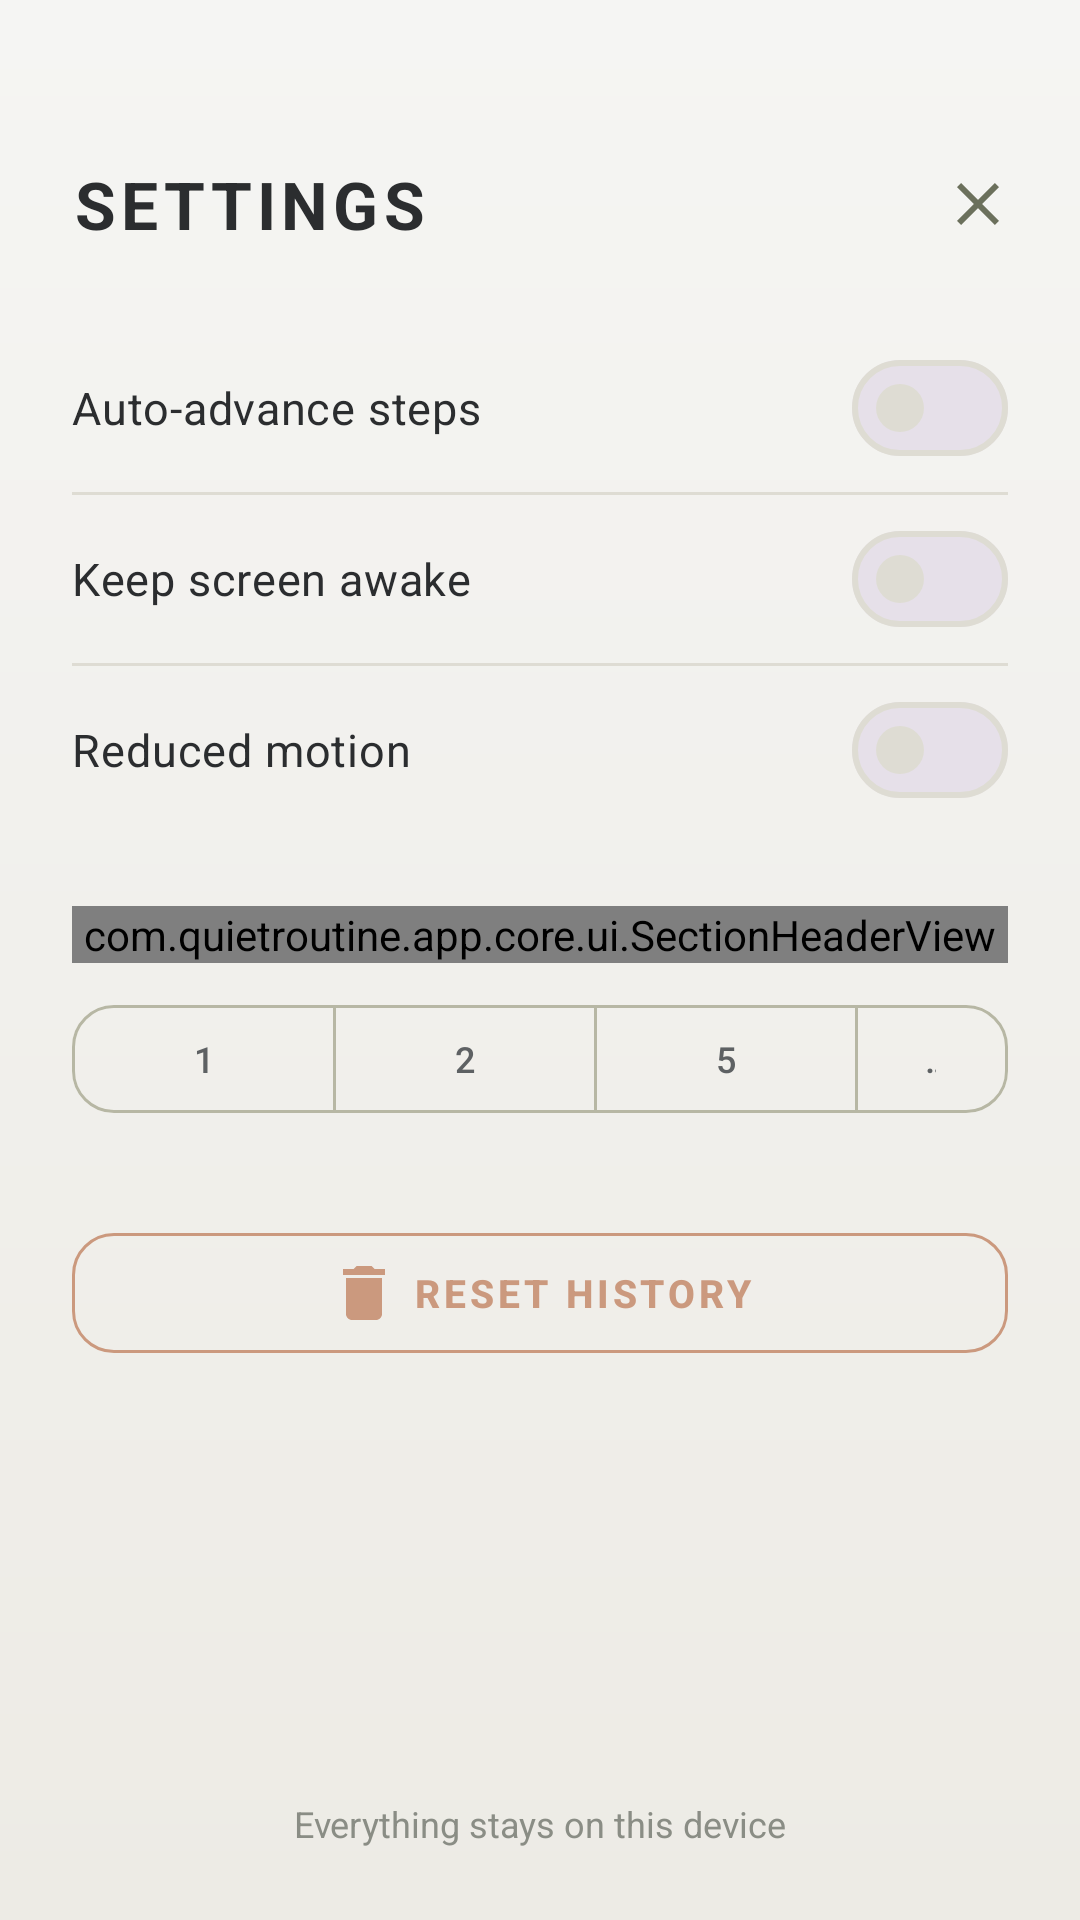

Icon click points for this 1080×1920 phone screenshot, format (x=x, y=y):
Close: (x=978, y=204)
